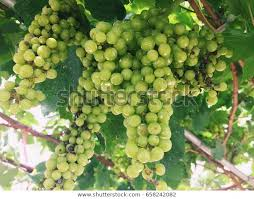grapes: (86, 24, 176, 178), (17, 4, 67, 106), (44, 126, 93, 180)
